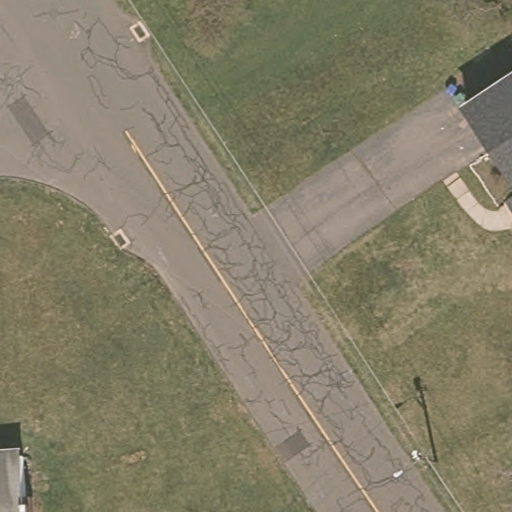DT: (392, 449, 423, 480)
